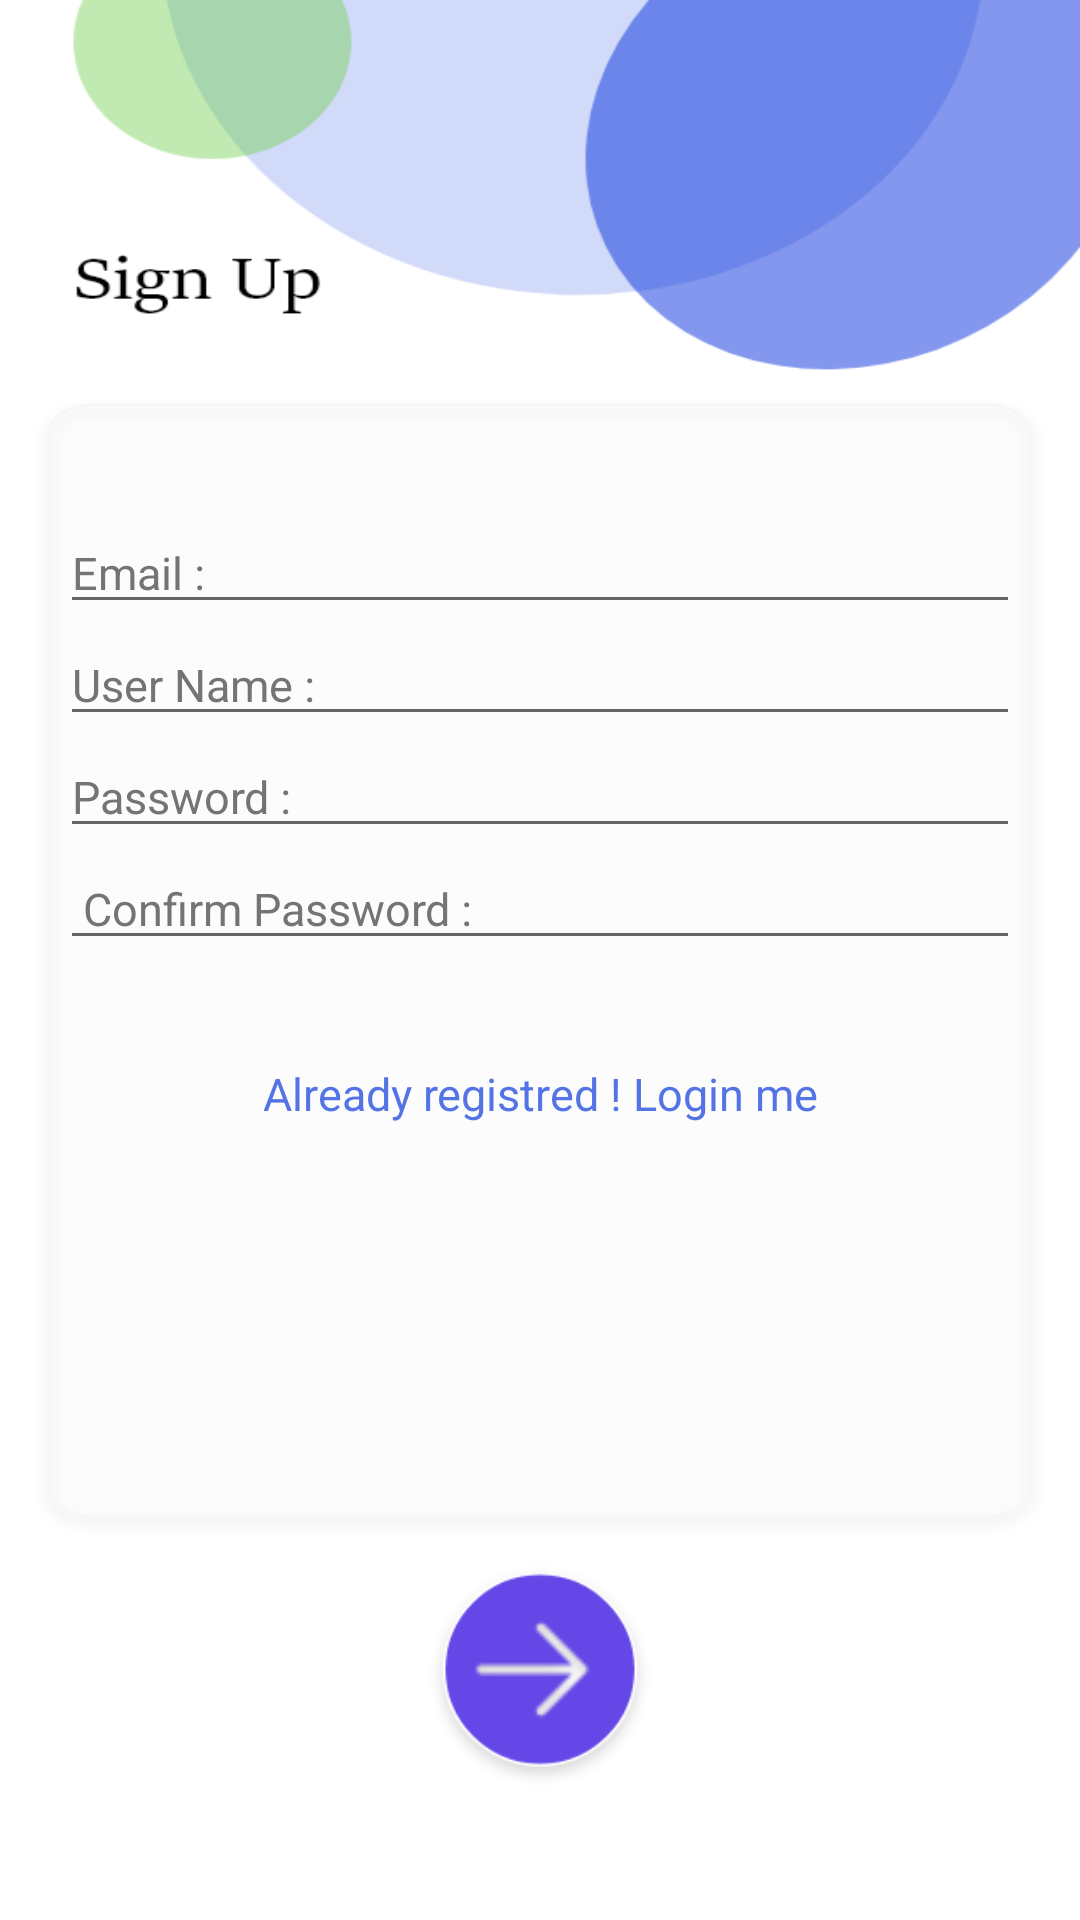

Icon click points for this 1080x1920 phone screenshot, format [x,y]:
right: [540,1672]
